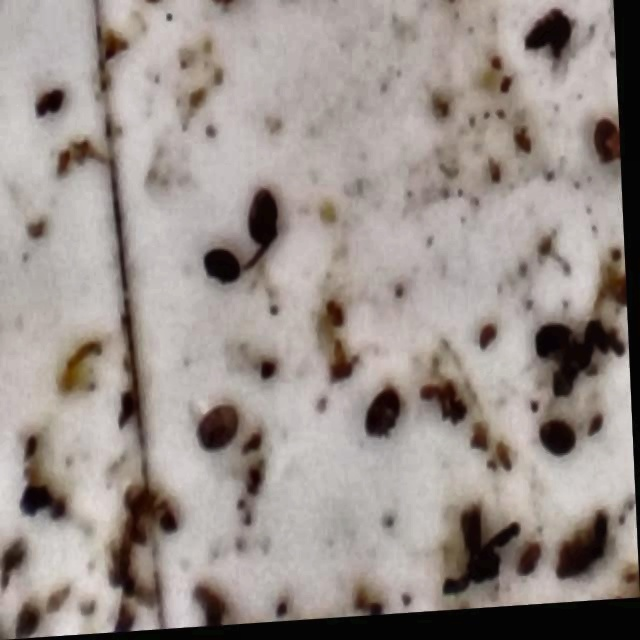varroa: (196, 404, 244, 455), (364, 392, 408, 446), (252, 187, 287, 252), (207, 250, 248, 292), (537, 329, 577, 372), (540, 424, 580, 466)
